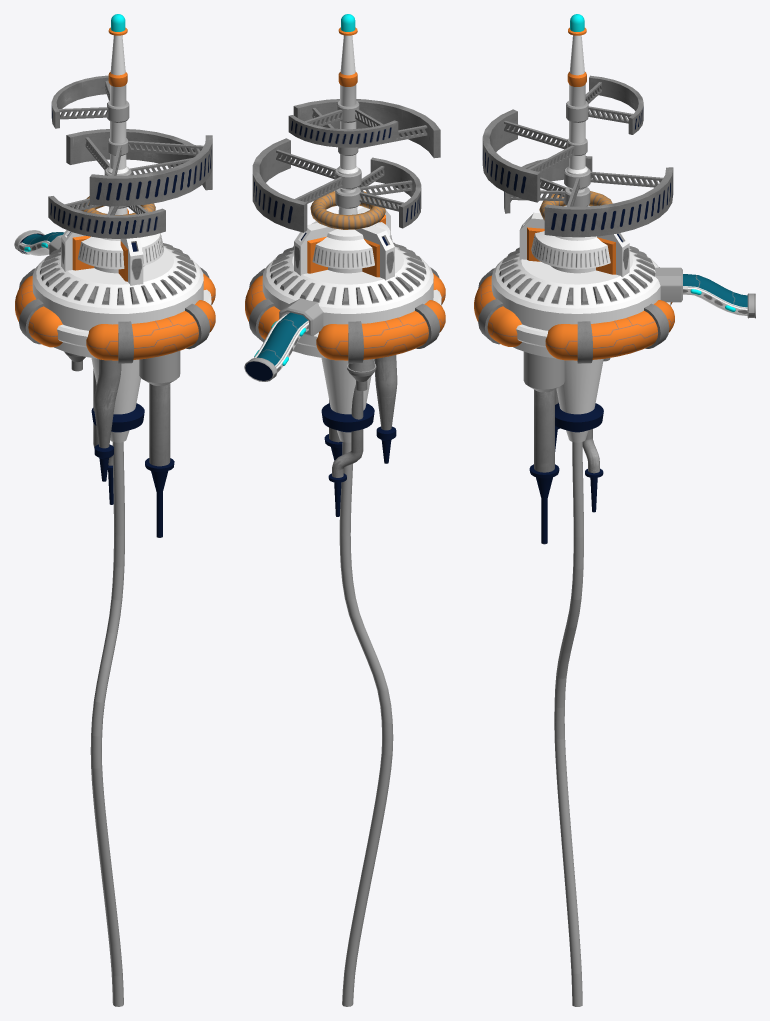
The model's file is Bubble_extractor_Unity.fbx.
3 views of the same model, side by side, from view 1: azimuth 30°, elevation 25°; view 2: azimuth 150°, elevation 25°; view 3: azimuth 270°, elevation 25° (orthographic).
Parts seen in each view (by area): view 1: Cylinder.259, Cylinder.240, Cylinder.256, Cylinder.239, Cylinder.241; view 2: Cylinder.259, Cylinder.256, Cylinder.240, Cylinder.239, Cylinder.241; view 3: Cylinder.259, Cylinder.256, Cylinder.240, Cylinder.241, Cylinder.239.
Part boxes in pixels (x1,y1,x2,y2): Cylinder.259: [14, 14, 215, 1006]; Cylinder.240: [89, 135, 212, 206]; Cylinder.256: [66, 129, 212, 190]; Cylinder.239: [48, 196, 165, 238]; Cylinder.241: [51, 75, 129, 128]; Cylinder.259: [244, 14, 445, 1006]; Cylinder.256: [252, 138, 361, 232]; Cylinder.240: [293, 99, 440, 158]; Cylinder.239: [335, 157, 421, 228]; Cylinder.241: [288, 100, 398, 147]; Cylinder.259: [474, 14, 755, 1006]; Cylinder.256: [544, 167, 673, 237]; Cylinder.240: [482, 109, 587, 202]; Cylinder.241: [566, 75, 643, 134]; Cylinder.239: [504, 156, 592, 213].
Bounding box in the file's own units: 1091 × 5588 × 1442.
